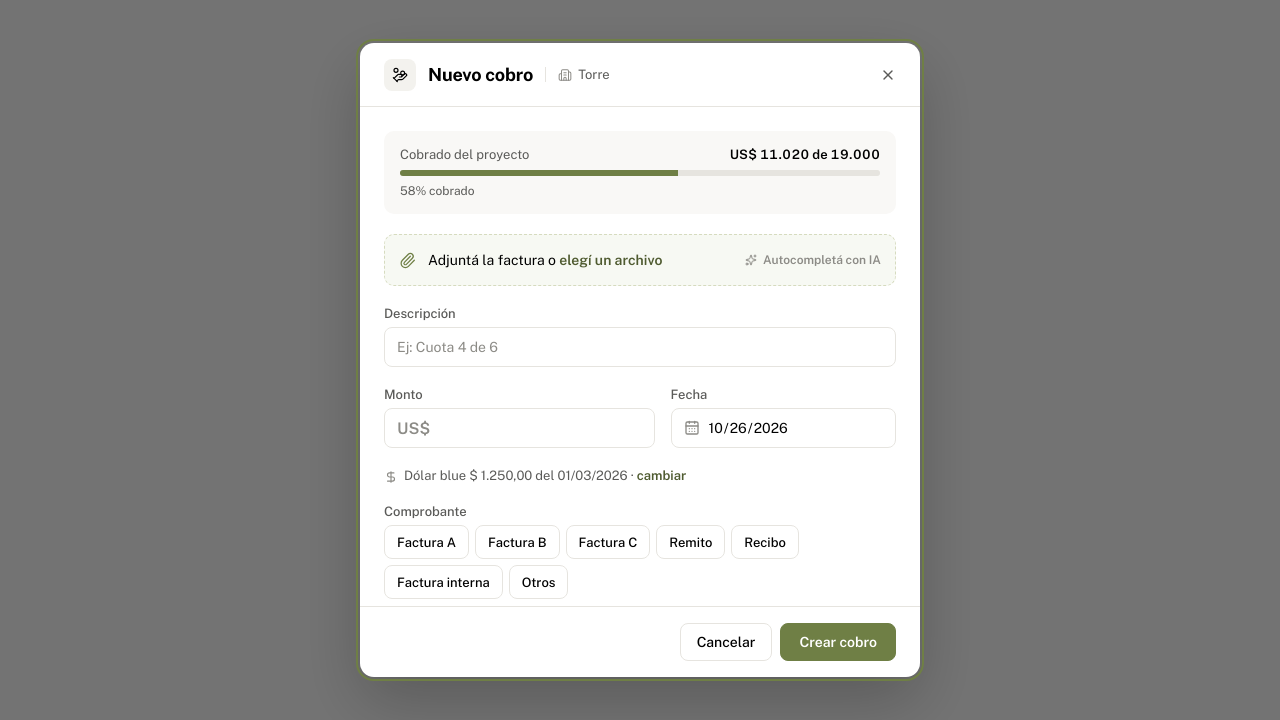
Test case: smoke de modales › un cobro nuevo muestra adónde llega lo cobrado del proyecto
Type "2500" into the number field labelled "Monto US$" at (540, 428), box 438,409 -> 642,447
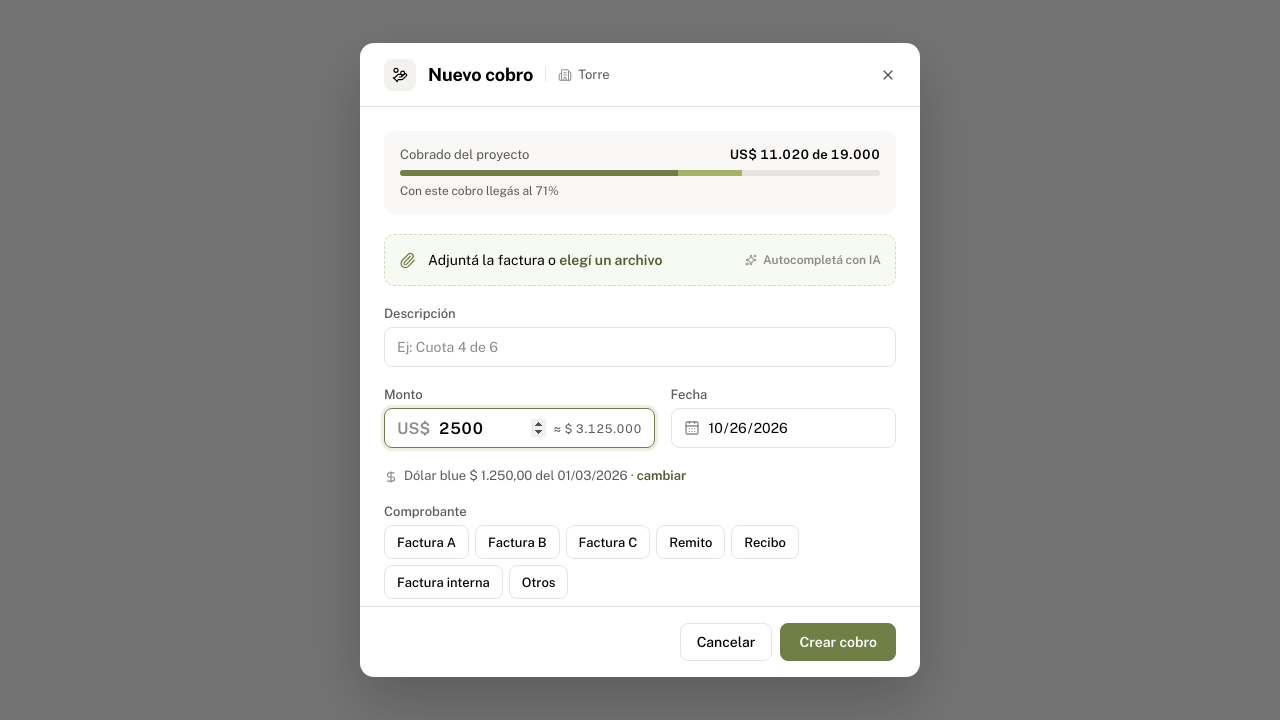
Expected: the element with class "cobro-avance" shows "Con este cobro llegás al 71%", 400,184 -> 559,198
